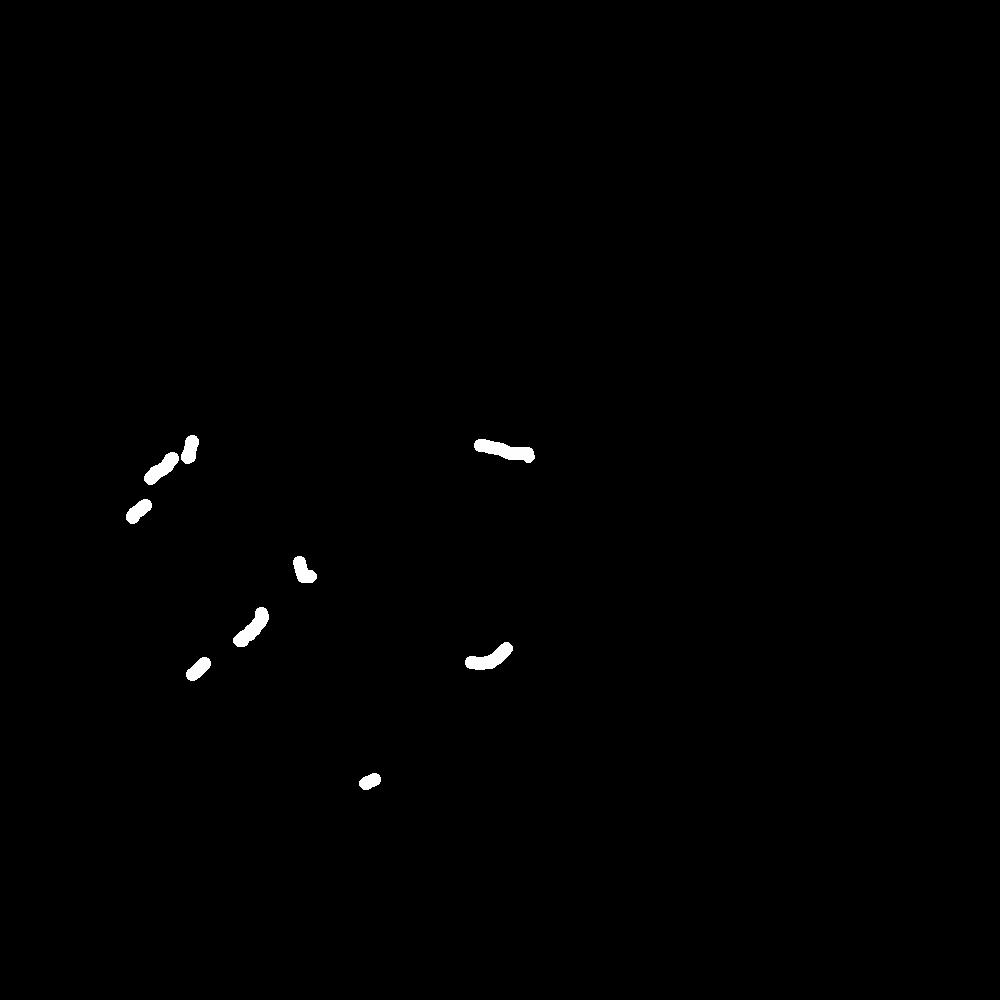illegal: (108, 431, 204, 560), (192, 611, 276, 684)
